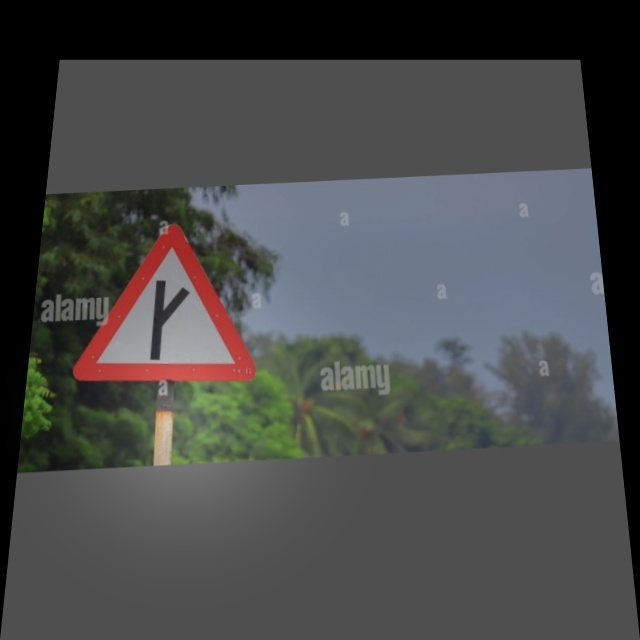Y_Intersection: (71, 215, 256, 391)
